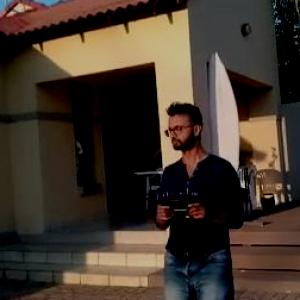follow: (155, 100, 246, 299)
